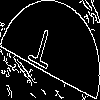T: (25, 25, 57, 79)
